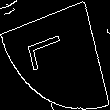L_E: (32, 32, 78, 78)
